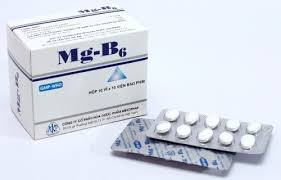Mg-B6: (59, 41, 123, 67)
